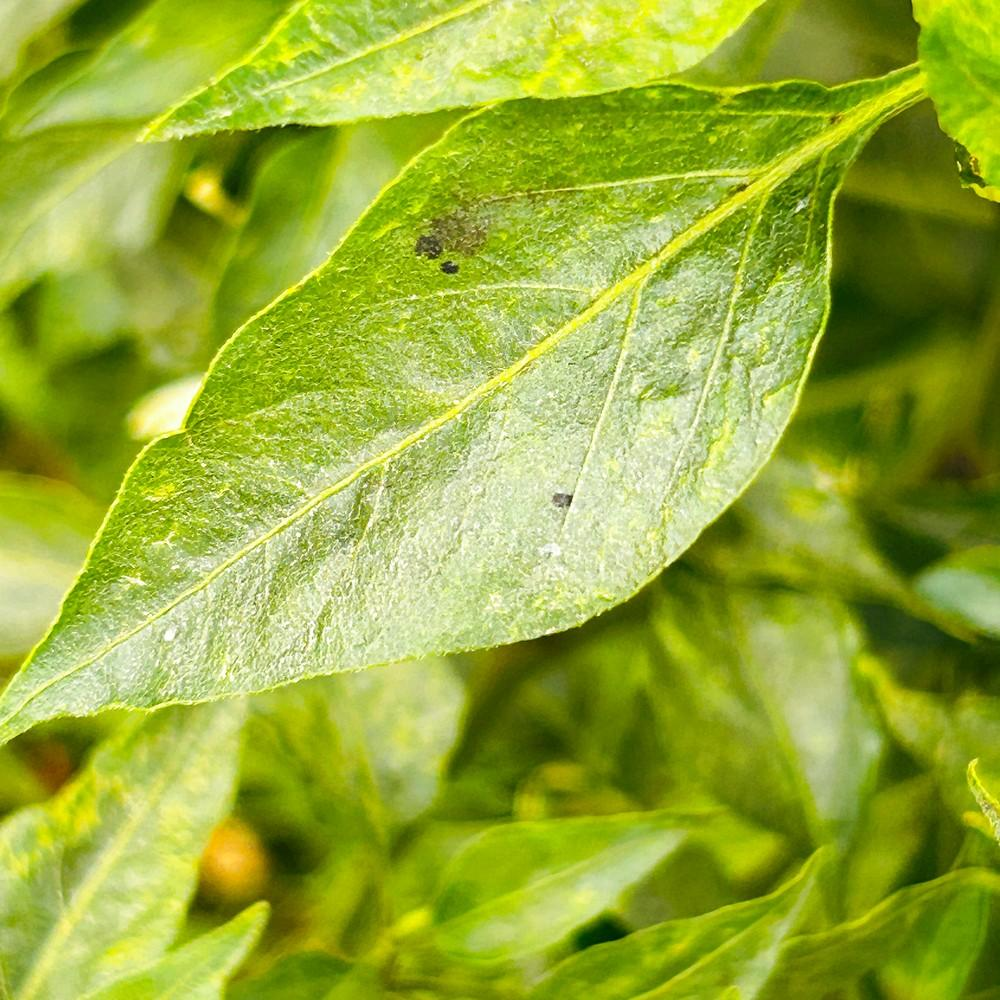Daun Cabai Sehat: (0, 74, 923, 737)
